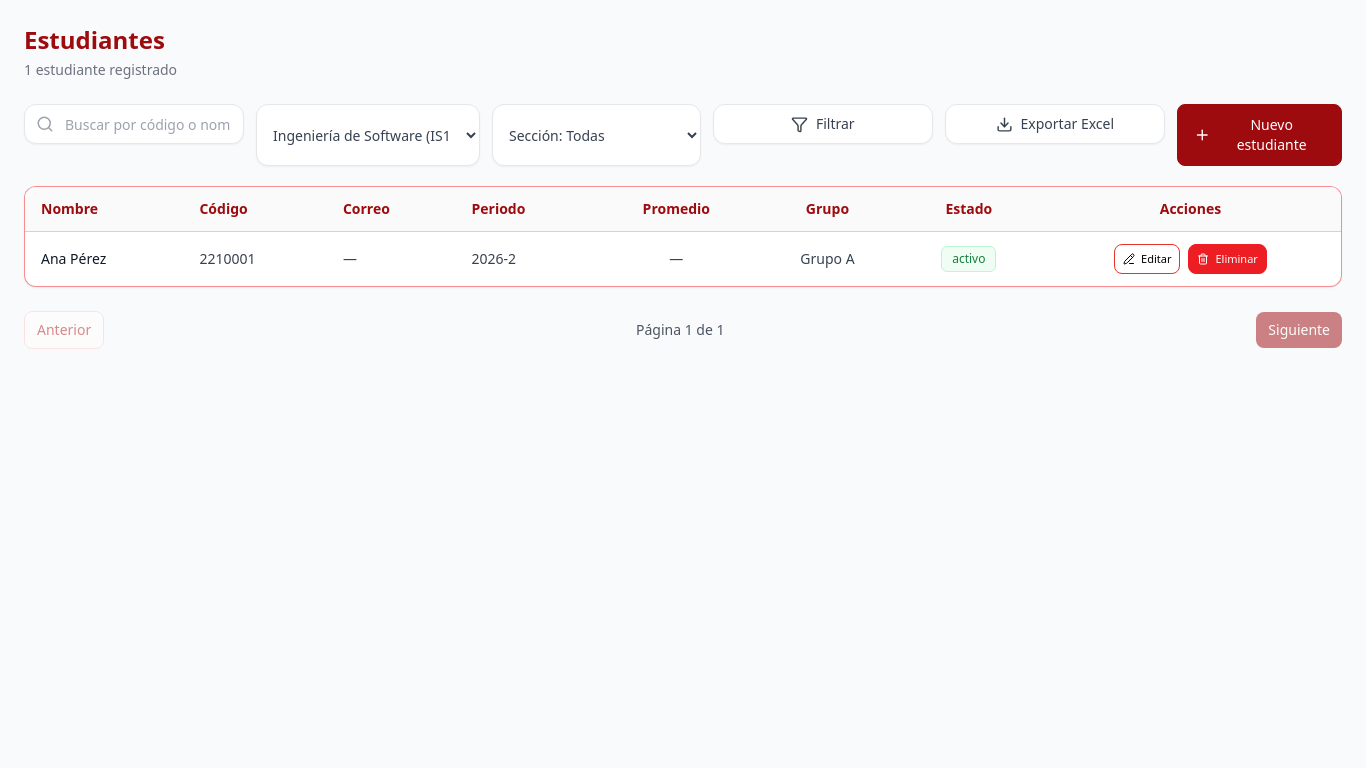
Test case: StudentsPage — eliminar estudiante › si estudiantesApi.delete falla, el modal sigue abierto y muestra el mensaje de error
Click the button "Eliminar": click(1228, 259) [1188,244,1267,274]
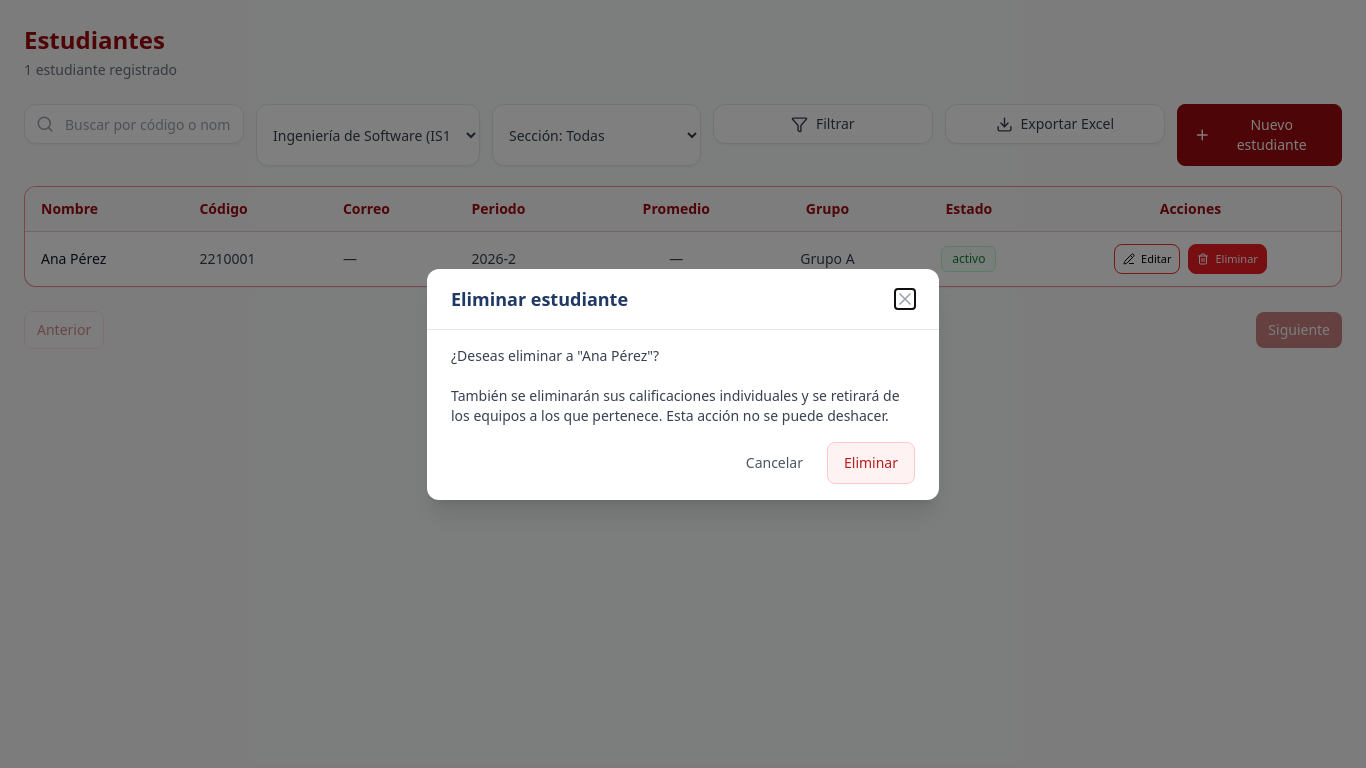
Click the button "Eliminar": click(871, 462) [827,442,915,484]
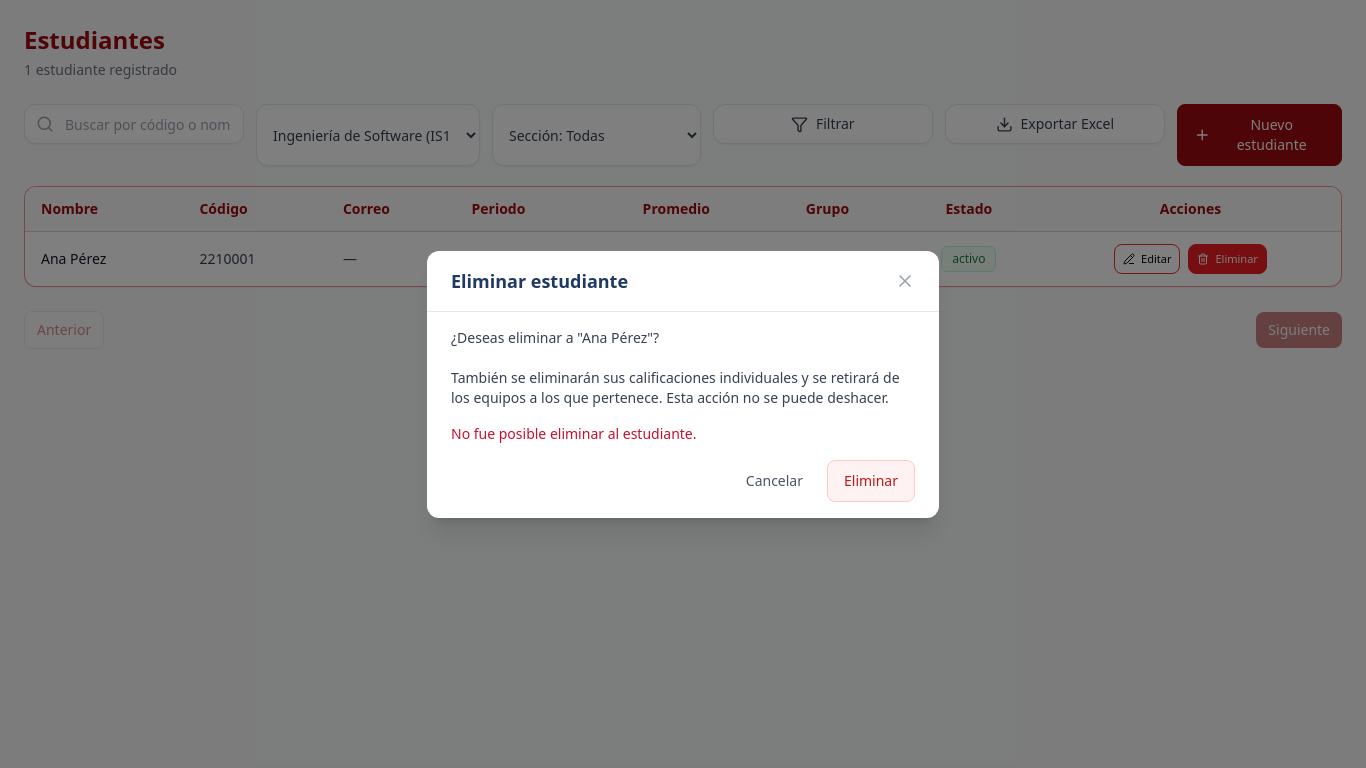
Expected: the text "Ana Pérez" is shown, [41,249,106,268]
Now the button "Eliminar" is shown, box [827,460,915,502]
Now the text "No fue posible eliminar al estudiante." is shown, box [451,424,696,442]
